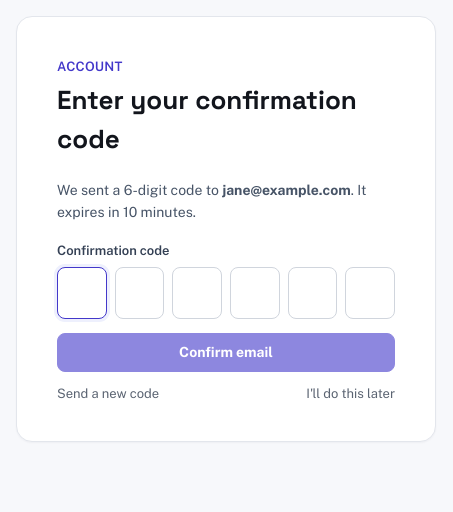
it: ConfirmEmail › surfaces a rate-limited resend instead of silently doing nothing
Click the button "Send a new code".
click(108, 393)  # box 57,386 -> 159,401
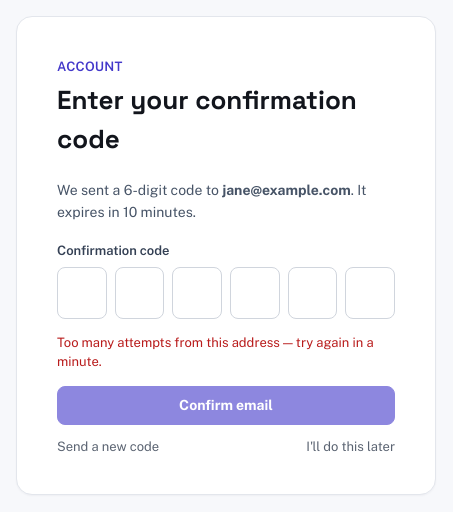
Expected: the text "Too many attempts from this address — try again in a minute." is shown, 57,333 -> 395,372
